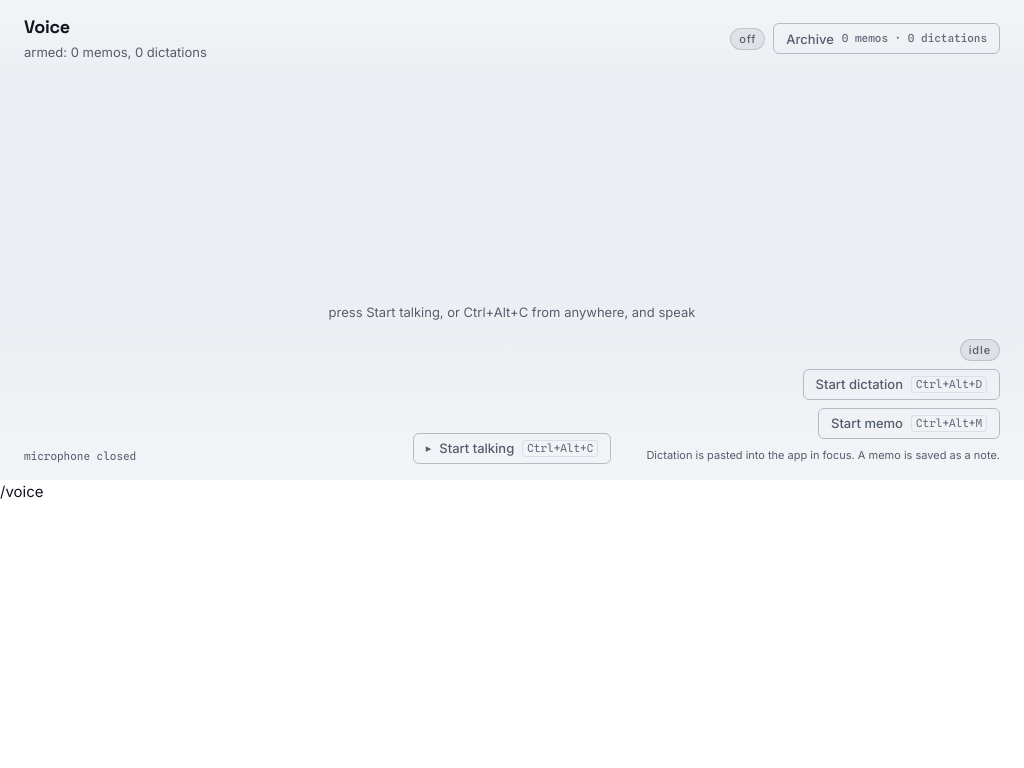
Test: Voice — the room › the room is marked while the archive is open, so the dock can clear it
Click the button "Archive 0 memos · 0 dictations".
click(887, 39)  # box x1=773 y1=23 x2=1000 y2=54
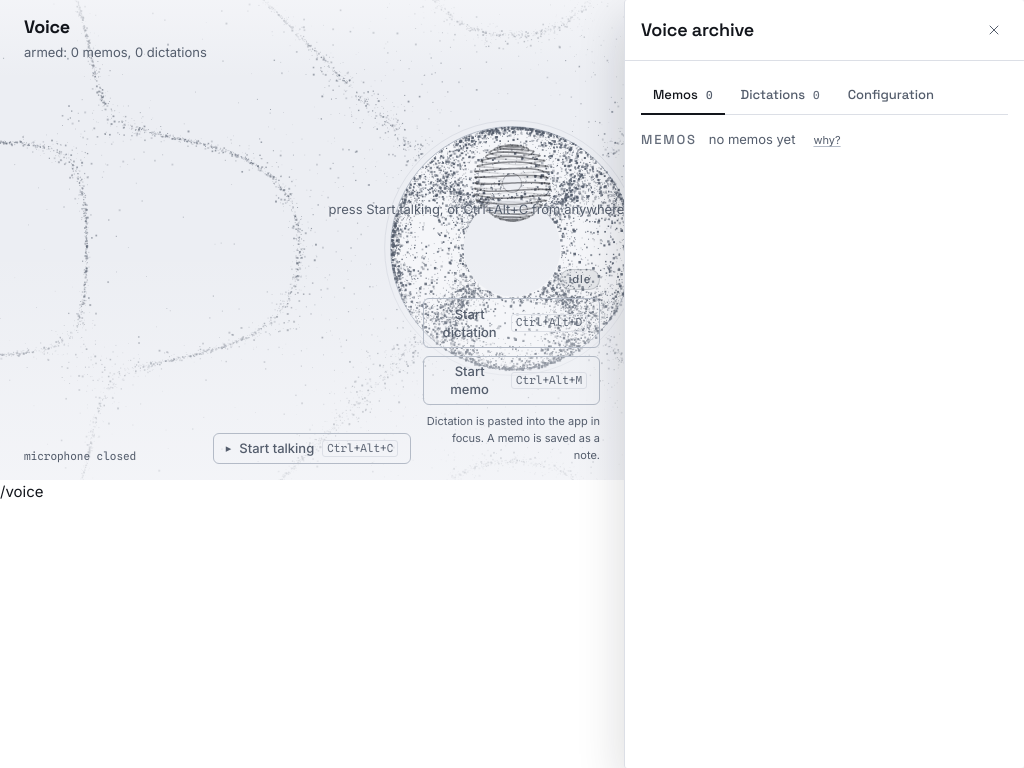
expect the element that starts with "Voice" has attribute data-archive="open": met
Press Escape in the dialog "Voice archive", box x1=624 y1=0 x2=1023 y2=767
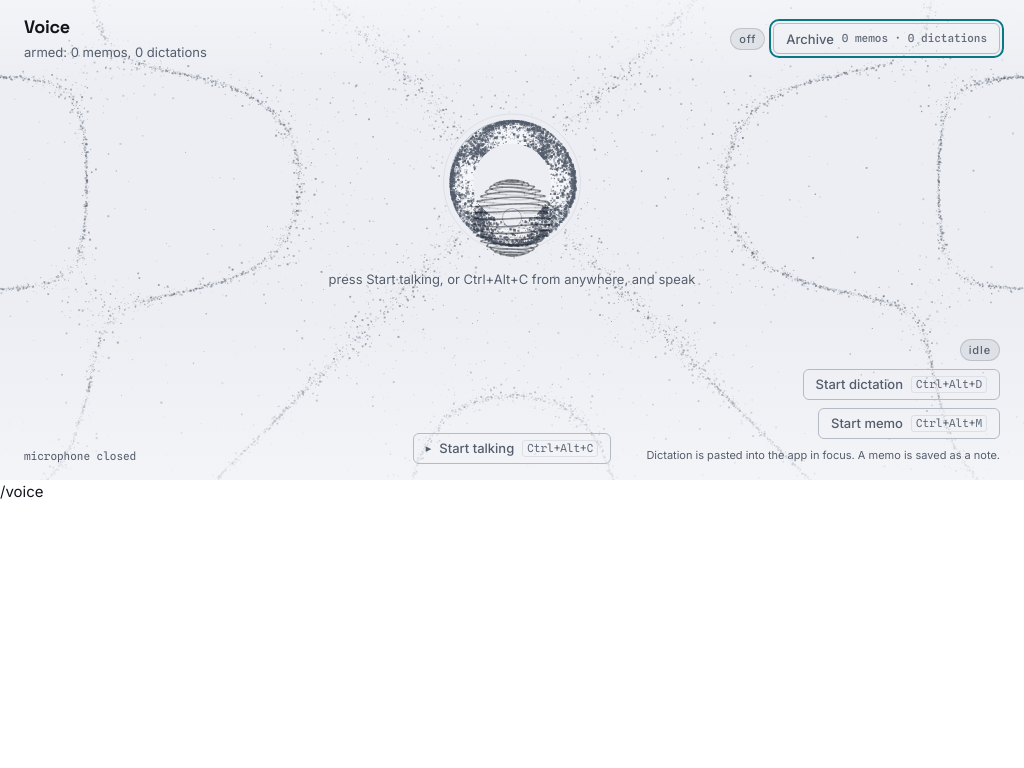
expect the heading "Voice archive" is gone: met
